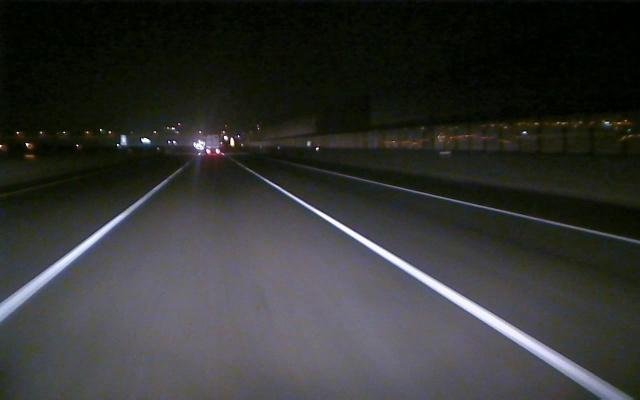lane: (245, 169, 629, 397), (2, 182, 162, 321), (334, 173, 640, 245)
